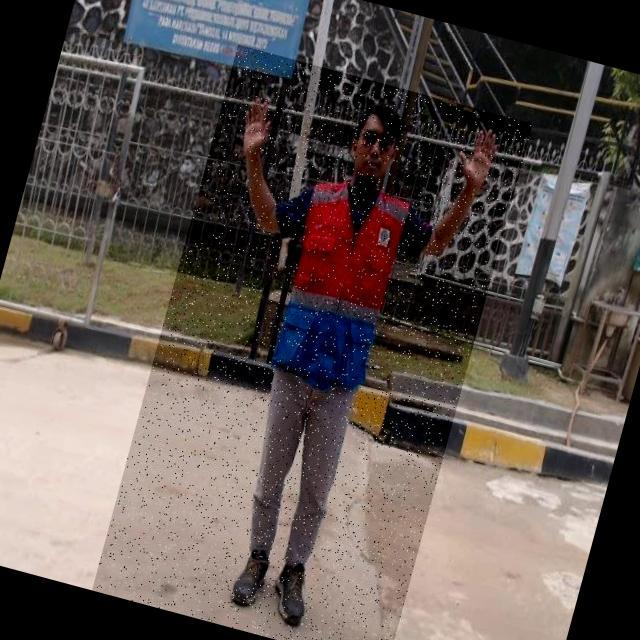Human: (91, 44, 532, 640)
Safety Boot: (263, 554, 320, 628), (228, 540, 275, 613)
Safety Vest: (263, 171, 420, 394)
